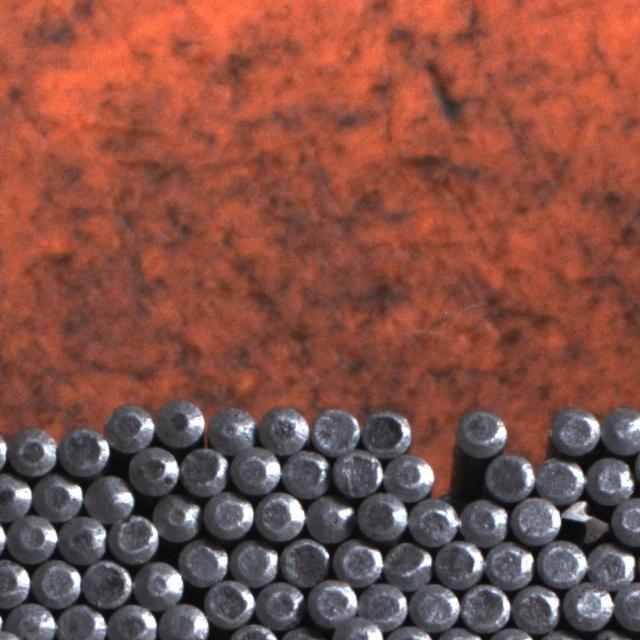tool: (104, 400, 156, 453), (358, 405, 411, 457), (58, 424, 110, 476), (455, 404, 507, 456), (203, 575, 254, 628), (504, 408, 554, 462), (384, 451, 436, 502), (127, 444, 178, 496), (81, 557, 132, 608), (258, 403, 309, 454), (355, 490, 406, 541), (5, 512, 56, 563), (179, 444, 229, 495), (7, 425, 57, 476), (57, 513, 107, 564), (331, 448, 382, 498), (562, 580, 612, 630), (278, 536, 328, 586), (483, 450, 533, 500), (460, 580, 510, 630), (254, 490, 304, 540), (408, 496, 458, 546), (409, 580, 459, 630), (156, 398, 206, 448), (306, 577, 356, 627), (432, 537, 481, 588), (511, 582, 560, 632), (203, 490, 253, 539), (510, 494, 559, 544), (32, 472, 82, 521), (281, 448, 330, 498), (152, 492, 202, 541), (134, 558, 184, 607), (84, 473, 134, 522), (311, 404, 359, 455), (208, 402, 256, 453), (382, 537, 431, 586), (230, 447, 279, 496), (305, 492, 354, 541), (484, 539, 532, 589), (550, 406, 598, 456), (110, 512, 158, 562), (560, 498, 610, 546), (535, 455, 583, 504), (332, 537, 381, 585), (536, 538, 584, 587), (586, 456, 635, 504), (359, 579, 408, 627), (255, 578, 303, 627), (33, 558, 81, 606), (230, 537, 278, 585), (178, 538, 226, 586), (460, 496, 507, 544), (586, 542, 632, 590), (158, 601, 210, 640), (7, 600, 56, 640), (601, 404, 640, 453), (106, 602, 156, 640), (56, 602, 104, 640), (0, 471, 31, 521), (0, 557, 29, 607), (613, 578, 640, 630), (612, 496, 640, 544), (332, 614, 383, 640)
